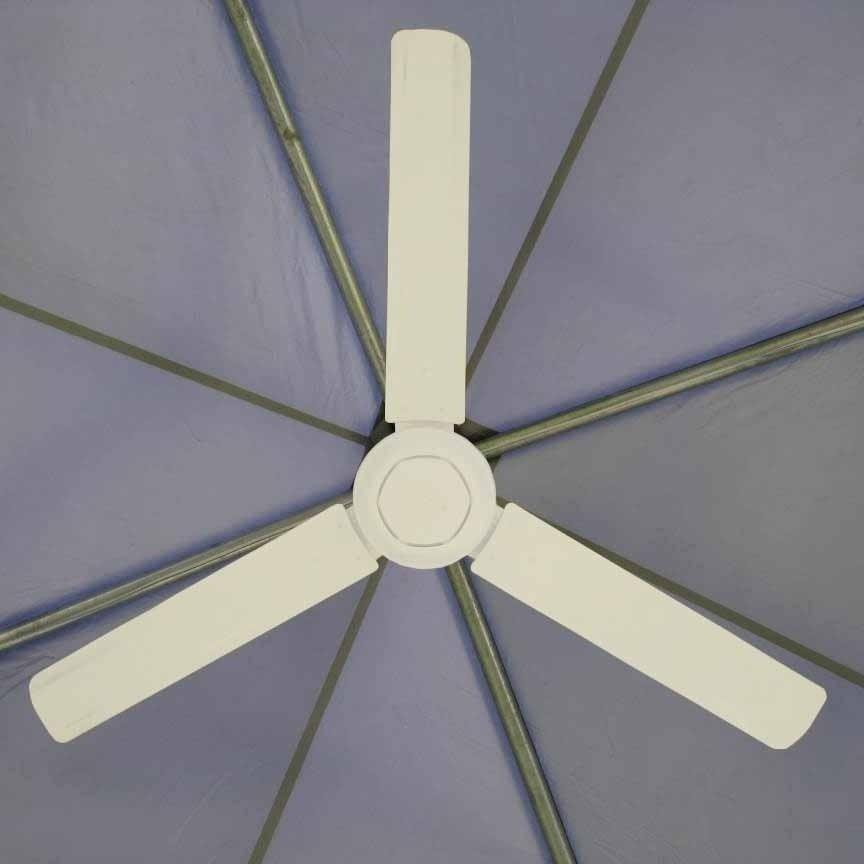fan: (48, 28, 836, 802)
